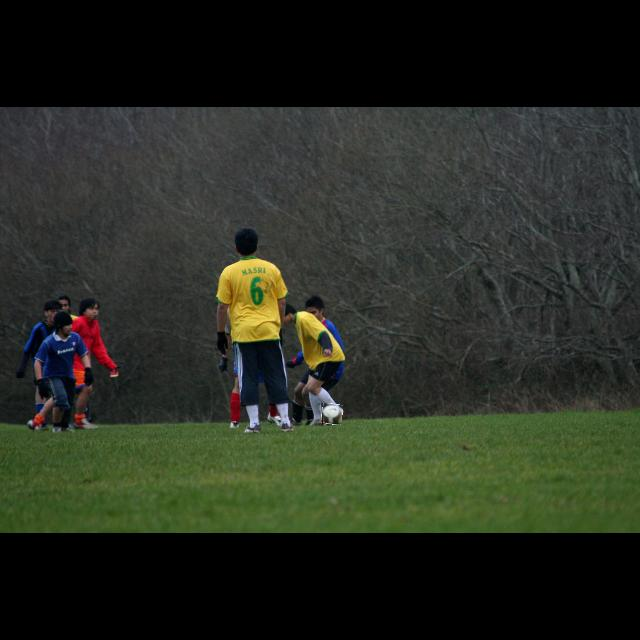Football: (322, 404, 342, 424)
